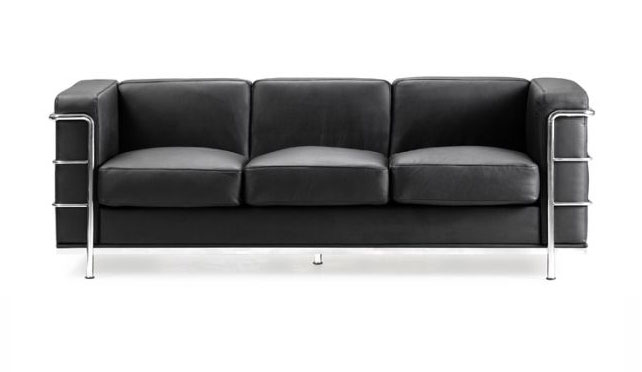chairs: (50, 72, 598, 288)
